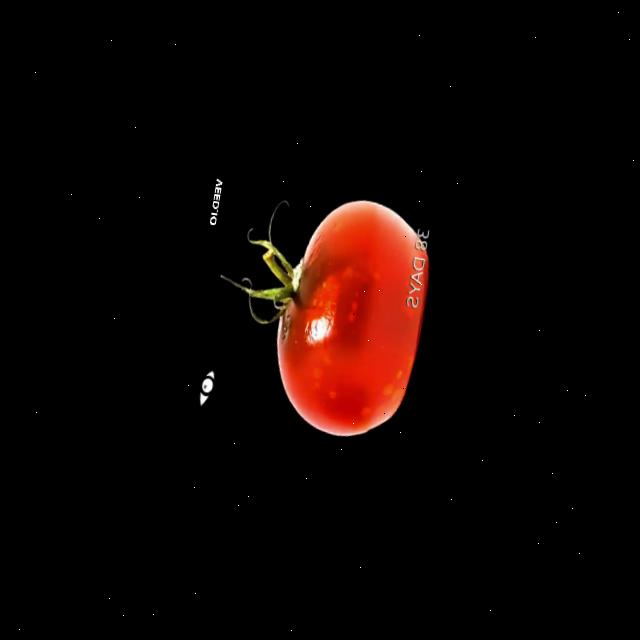tomato: (225, 183, 442, 451)
